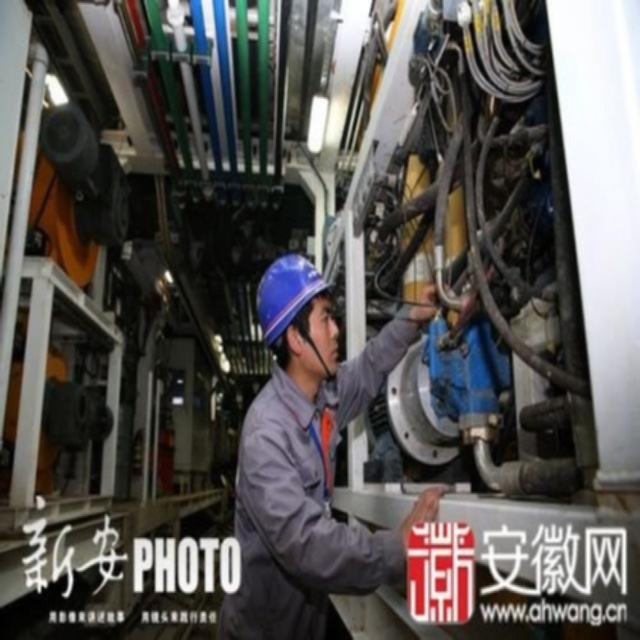Con_Casco: (258, 254, 342, 382)
